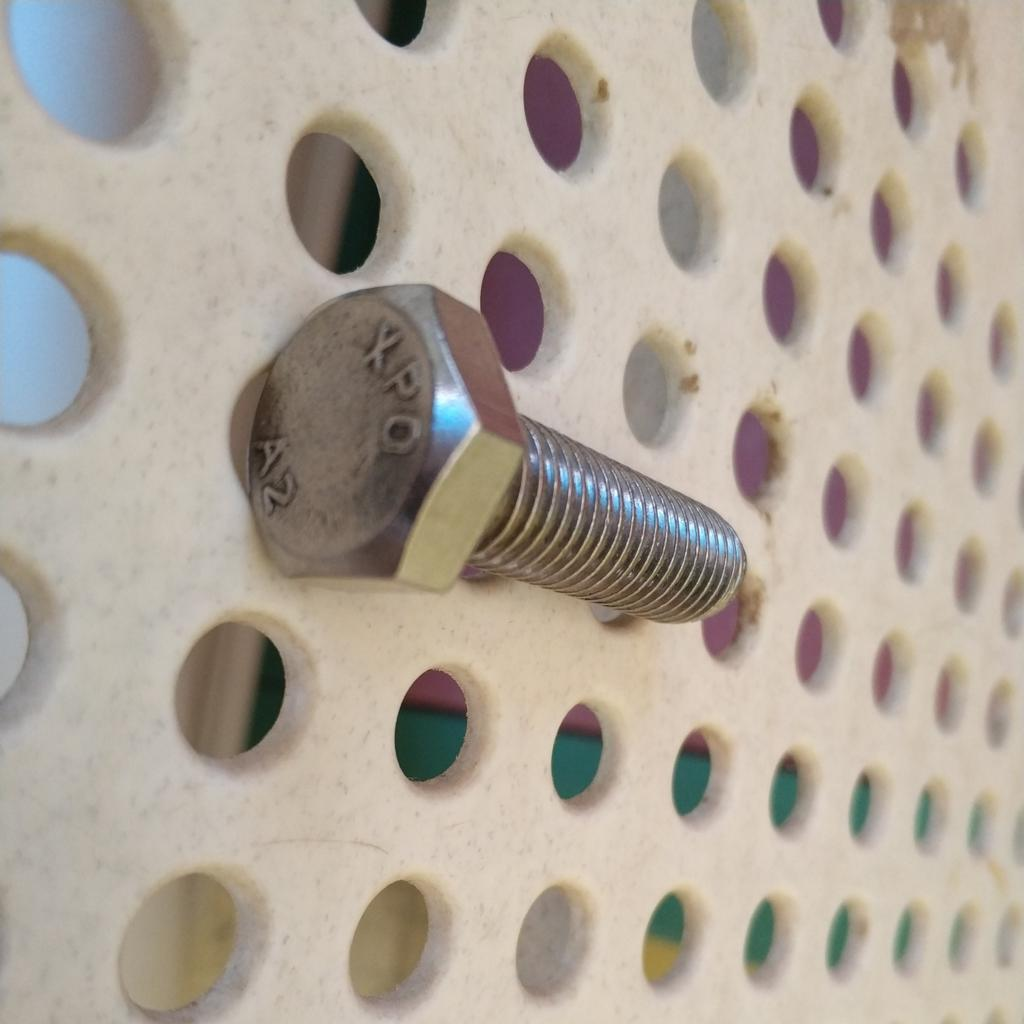screwtype2silver: (235, 274, 752, 657)
